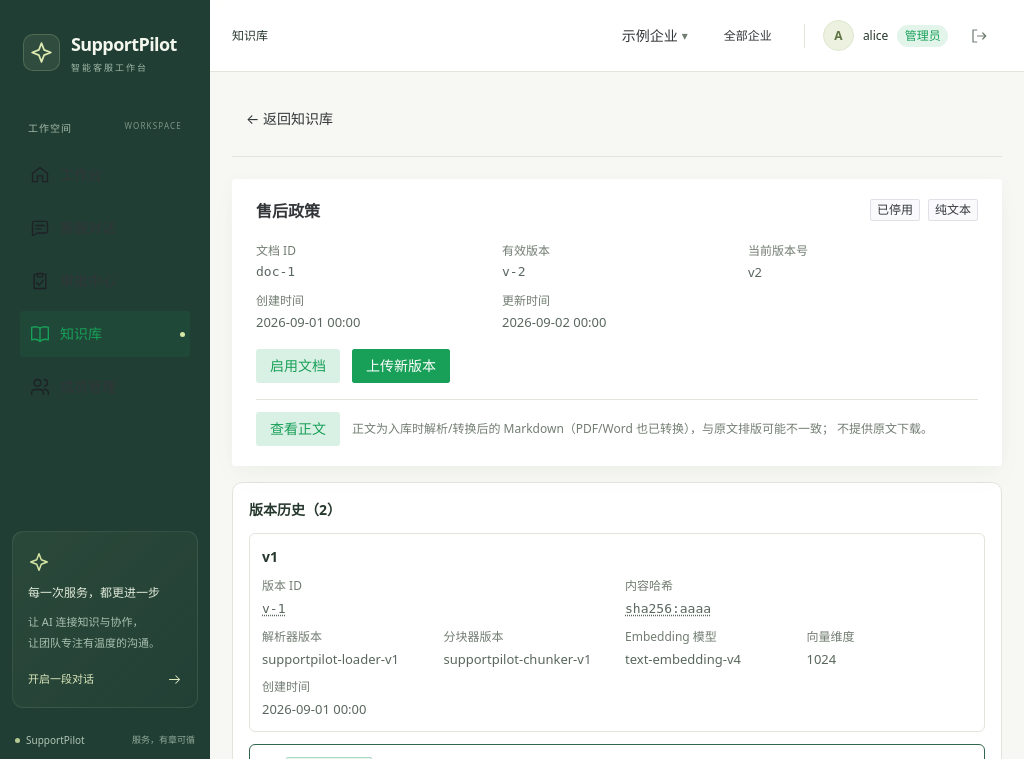
KnowledgeDetailView 角色与状态操作 › admin + active + markdown/text：显示上传新版本入口并打开对话框
Click the button with test id "open-version-upload" at (401, 366), box [352,349,450,383]
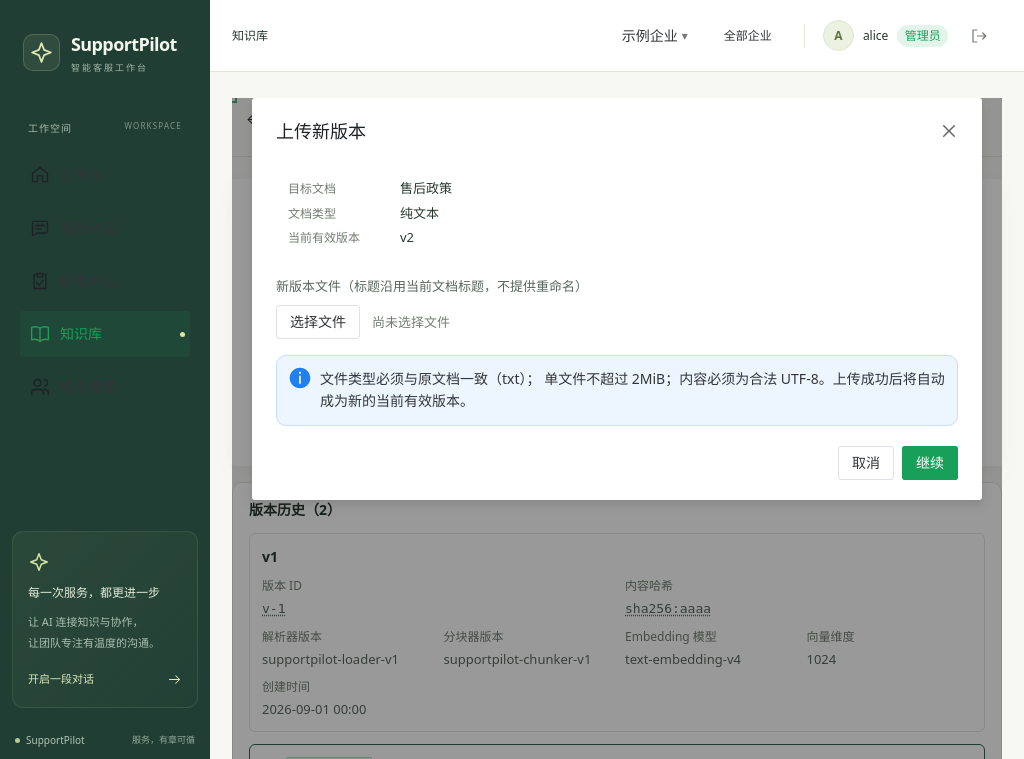
Check: the dialog with test id "version-upload-dialog" is shown, box [252,98,982,500]
Check: the element with test id "target-info" shows "售后政策", box [400,179,452,197]
Check: the element showing "新版本文件（标题沿用当前文档标题，不提供重命名） 选择文件 尚未选择文件" is shown, box [276,277,588,339]
